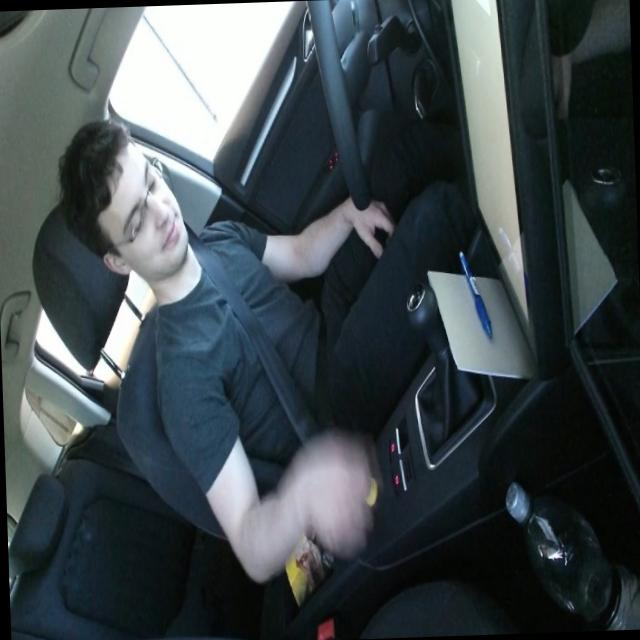pen: (457, 246, 492, 340)
